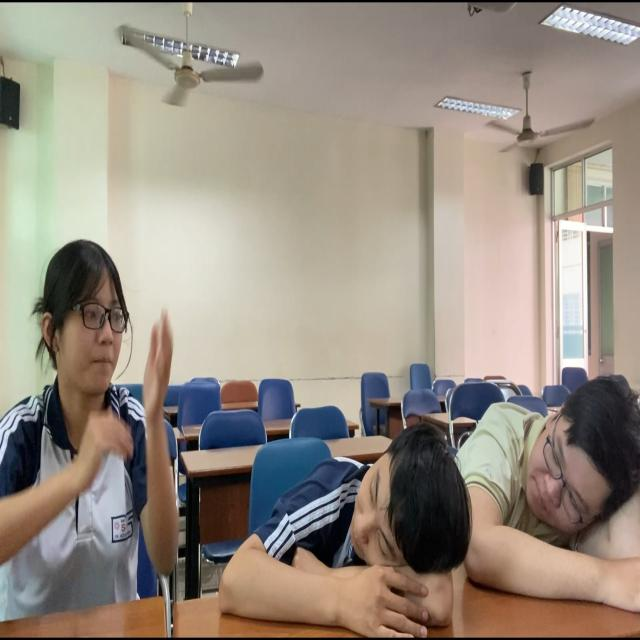raise_hand: (1, 204, 204, 640)
sleep: (213, 422, 479, 640), (472, 366, 640, 629)
